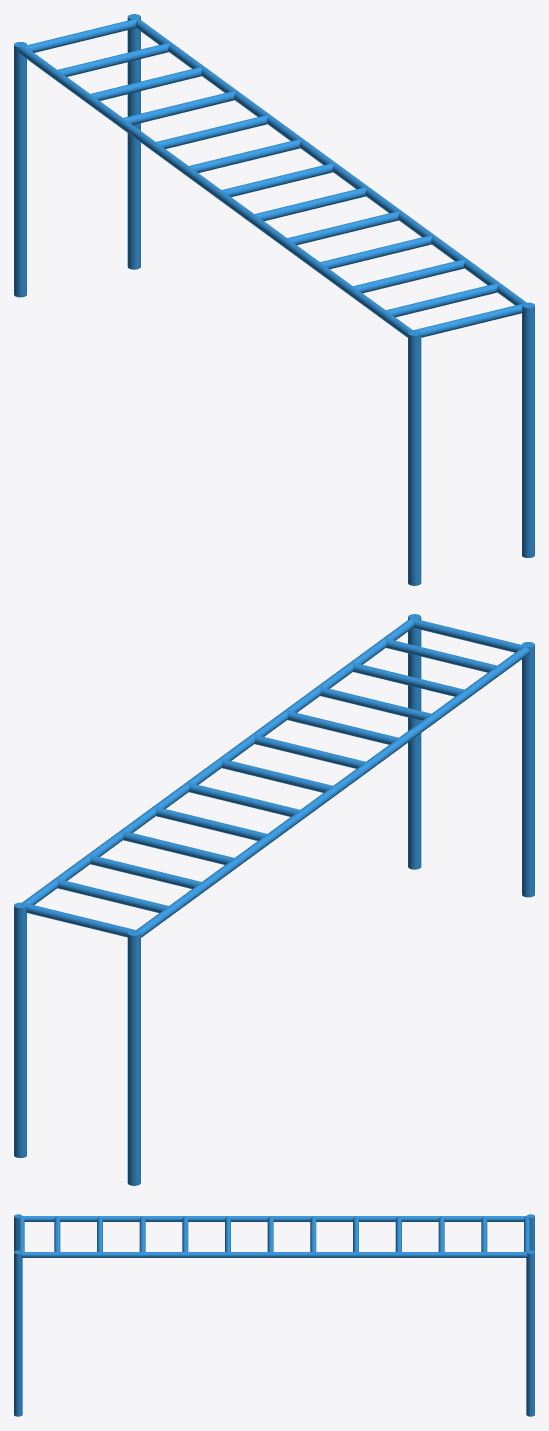
Rendered from gelantungan.fbx.
The picture shows the model from 3 angles, top to bottom: view 1: azimuth 30°, elevation 25°; view 2: azimuth 150°, elevation 25°; view 3: azimuth 270°, elevation 25°; orthographic projection. The views are drawn at different scales.
Parts seen in each view (by area): view 1: Cylinder.006; view 2: Cylinder.006; view 3: Cylinder.006.
Boxes of the visible parts, x1=… form: Cylinder.006: x1=14, y1=14, x2=534, y2=585; Cylinder.006: x1=14, y1=614, x2=534, y2=1185; Cylinder.006: x1=14, y1=1214, x2=534, y2=1416.
Size of the model in its own units: 110 by 210 by 610.
